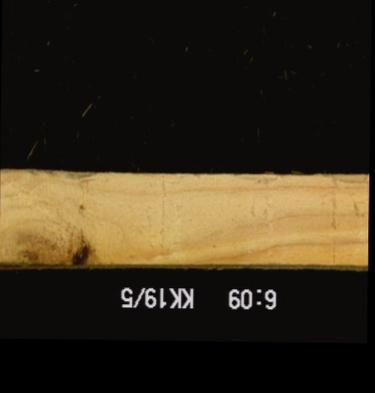wave: (23, 170, 106, 184), (230, 172, 283, 188), (318, 173, 368, 186)
